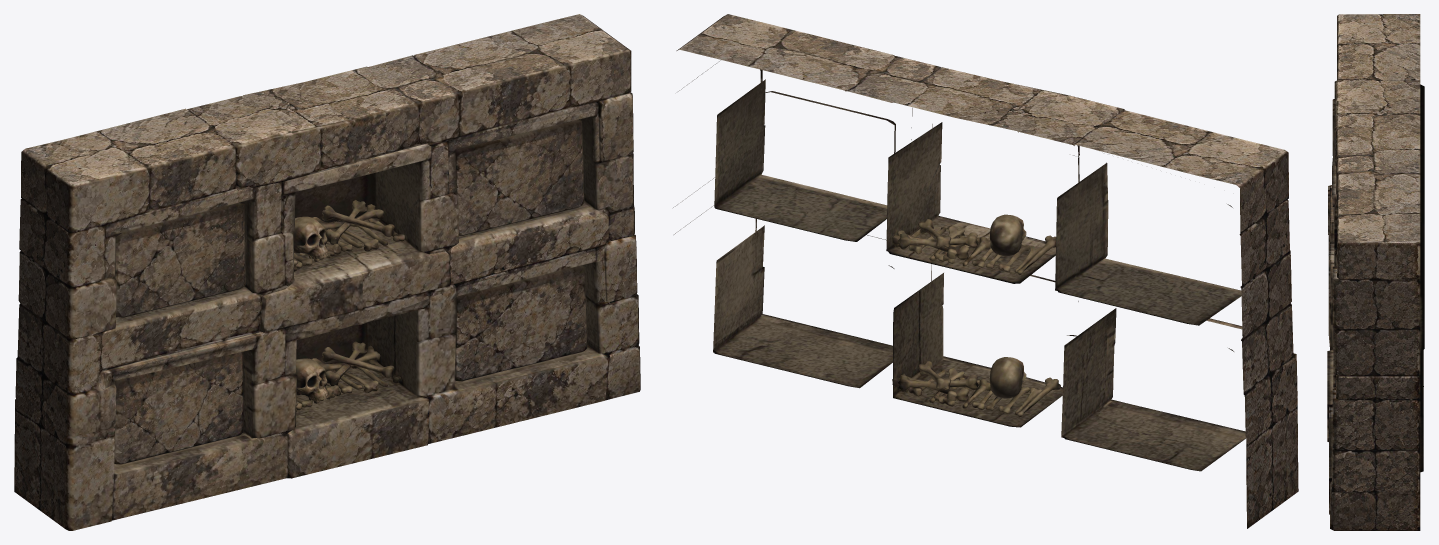
Rendered from dungeon-prop-crypt-wall.glb.
The picture shows the model from 3 angles, left to right: view 1: azimuth 30°, elevation 25°; view 2: azimuth 150°, elevation 25°; view 3: azimuth 270°, elevation 25°; orthographic projection. The views are drawn at different scales.
Visible parts, largest first — view 1: crypt-wall; view 2: crypt-wall; view 3: crypt-wall.
Boxes of the visible parts, x1=… form: crypt-wall: x1=14, y1=14, x2=640, y2=530; crypt-wall: x1=673, y1=14, x2=1298, y2=528; crypt-wall: x1=1327, y1=14, x2=1424, y2=530.
Bounding box in the file's own units: 4 × 2.28 × 0.6973.
Materials: 1 (1 with a texture image).
